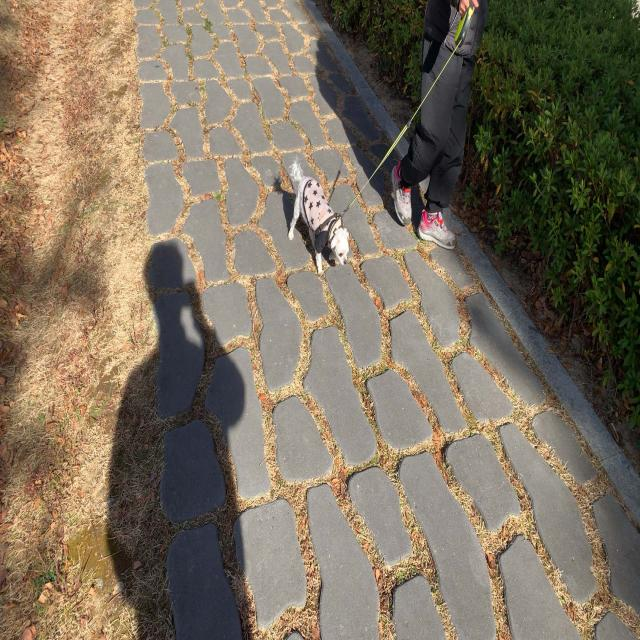Leashed_Dog: (288, 43, 446, 276)
